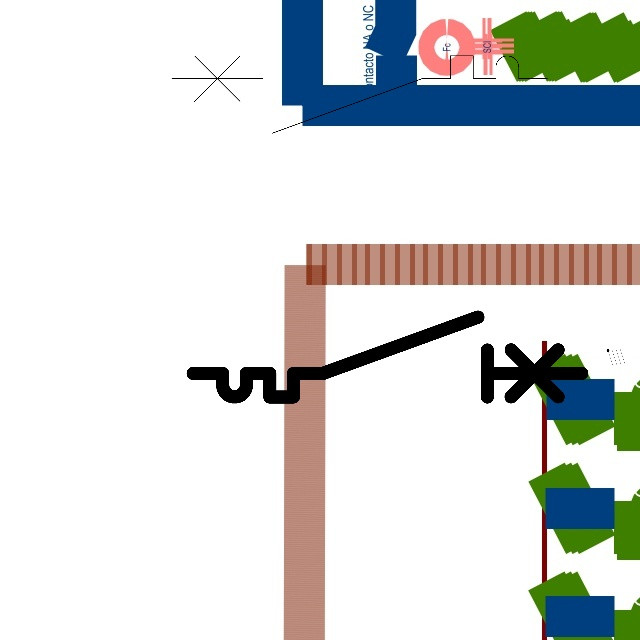interruptor_termomagnetico: (183, 307, 592, 407), (162, 46, 557, 142)
